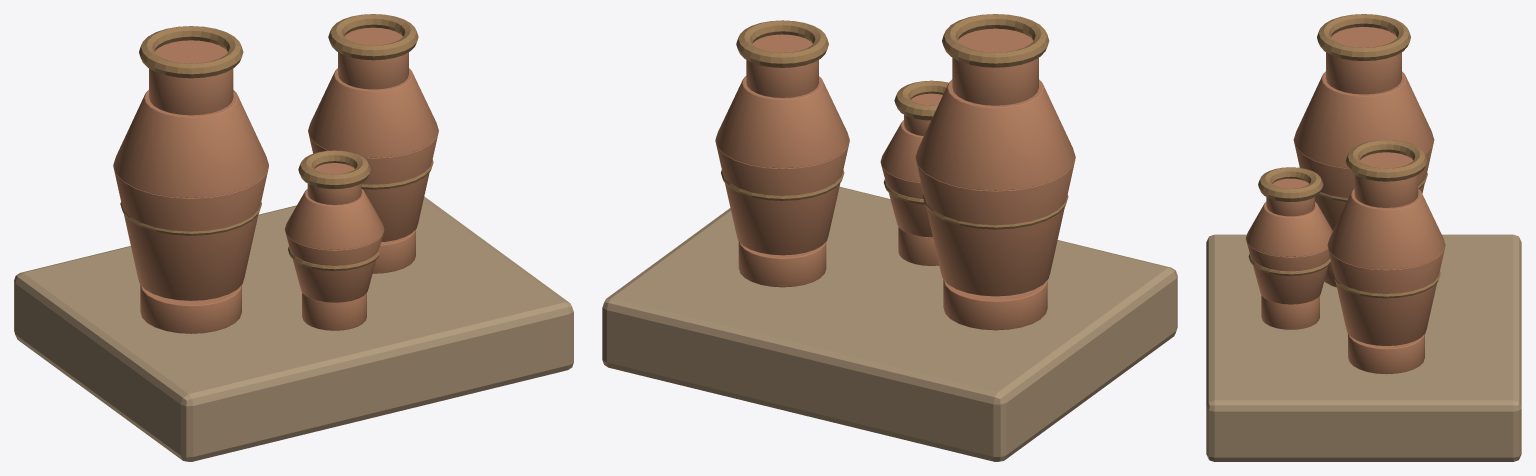
File: urn-cluster.glb
3 views of the same model, side by side, from view 1: azimuth 30°, elevation 25°; view 2: azimuth 150°, elevation 25°; view 3: azimuth 270°, elevation 25° (orthographic). The views are drawn at different scales.
Visible parts, largest first — view 1: Low stone platform, Urn shoulder, Urn upper body, Urn upper body.001, Urn neck, Urn shoulder.001, Urn upper body.002, Urn shoulder.002, Urn base, Urn rim, Urn neck.001, Urn rim.001 (+5 smaller); view 2: Low stone platform, Urn shoulder, Urn upper body, Urn shoulder.001, Urn upper body.001, Urn neck, Urn base, Urn rim, Urn neck.001, Urn base.001, Urn rim.001, Urn shoulder.002 (+6 smaller); view 3: Low stone platform, Urn upper body, Urn shoulder.001, Urn upper body.001, Urn neck, Urn upper body.002, Urn shoulder.002, Urn rim, Urn neck.001, Urn base.001, Urn rim.001, Urn shoulder (+5 smaller).
Boxes of the visible parts, left/top/right/bottom form: Low stone platform: left=14, top=196, right=573, bottom=461; Urn shoulder: left=113, top=166, right=268, bottom=300; Urn upper body: left=113, top=90, right=268, bottom=198; Urn upper body.001: left=308, top=68, right=438, bottom=157; Urn neck: left=149, top=40, right=233, bottom=115; Urn shoulder.001: left=308, top=131, right=438, bottom=242; Urn upper body.002: left=285, top=189, right=384, bottom=249; Urn shoulder.002: left=285, top=230, right=384, bottom=302; Urn base: left=140, top=285, right=241, bottom=333; Urn rim: left=139, top=26, right=243, bottom=78; Urn neck.001: left=338, top=27, right=408, bottom=89; Urn rim.001: left=328, top=14, right=418, bottom=60; Low stone platform: left=602, top=187, right=1177, bottom=461; Urn shoulder: left=915, top=158, right=1075, bottom=296; Urn upper body: left=915, top=79, right=1075, bottom=190; Urn shoulder.001: left=715, top=140, right=849, bottom=255; Urn upper body.001: left=715, top=76, right=849, bottom=168; Urn neck: left=952, top=28, right=1038, bottom=105; Urn base: left=943, top=280, right=1047, bottom=330; Urn rim: left=942, top=14, right=1049, bottom=67; Urn neck.001: left=746, top=34, right=818, bottom=97; Urn base.001: left=738, top=241, right=826, bottom=287; Urn rim.001: left=736, top=20, right=828, bottom=67; Urn shoulder.002: left=880, top=162, right=932, bottom=237; Low stone platform: left=1206, top=234, right=1521, bottom=461; Urn upper body: left=1293, top=71, right=1434, bottom=168; Urn shoulder.001: left=1327, top=245, right=1445, bottom=345; Urn upper body.001: left=1327, top=189, right=1445, bottom=269; Urn neck: left=1326, top=27, right=1401, bottom=94; Urn upper body.002: left=1246, top=202, right=1332, bottom=256; Urn shoulder.002: left=1246, top=239, right=1330, bottom=304; Urn rim: left=1317, top=14, right=1410, bottom=60; Urn neck.001: left=1354, top=152, right=1418, bottom=207; Urn base.001: left=1348, top=334, right=1424, bottom=374; Urn rim.001: left=1346, top=140, right=1427, bottom=181; Urn shoulder: left=1293, top=140, right=1434, bottom=230.
Bounding box in the file's own units: 1.45 × 1.18 × 1.12.
